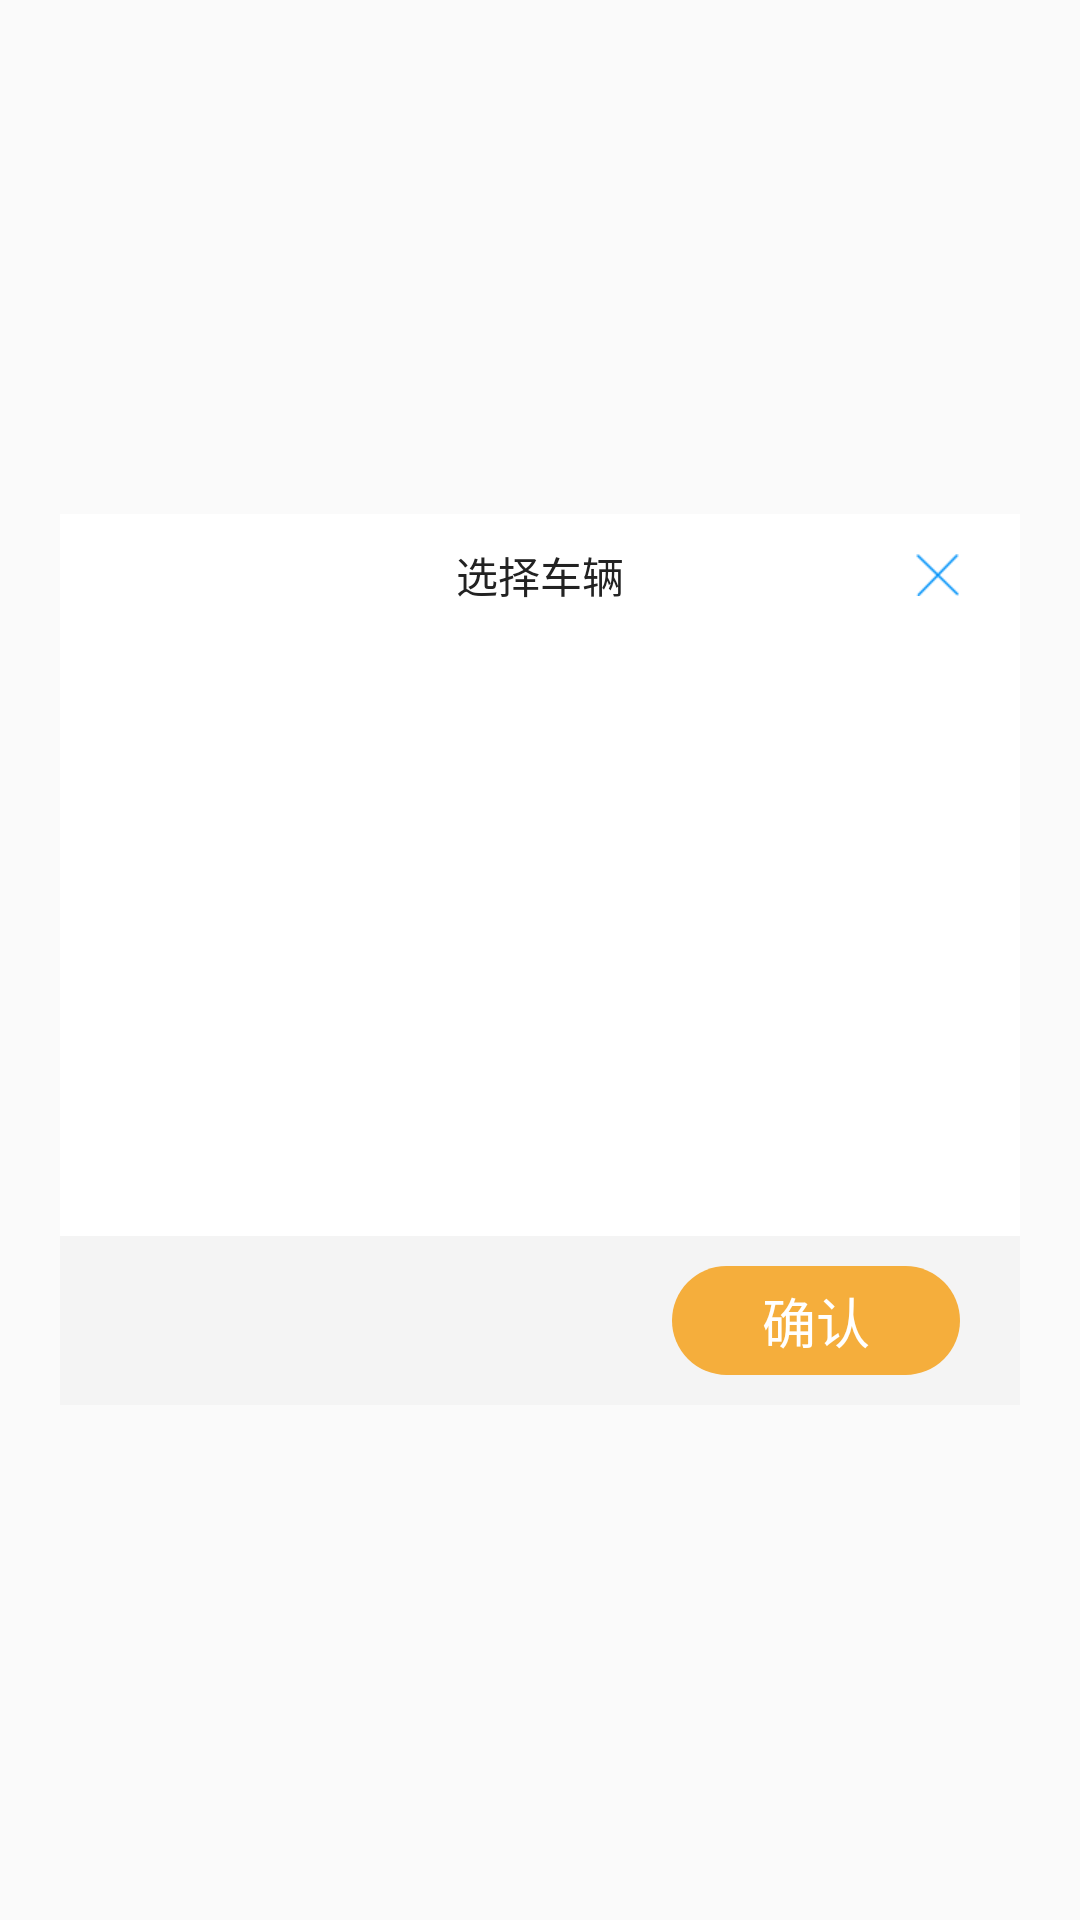

Point at icon controls on the screen. Image size 1080px x 1920px, points as point (x, y).
close: point (937, 575)
